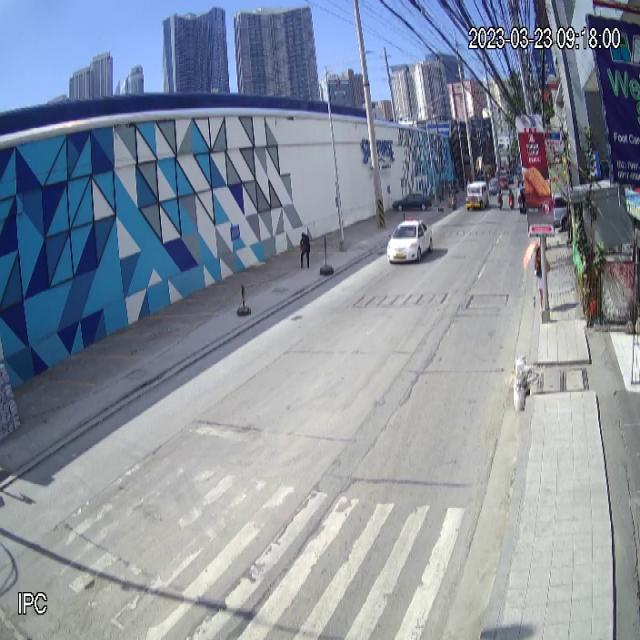Car: (387, 216, 434, 268)
